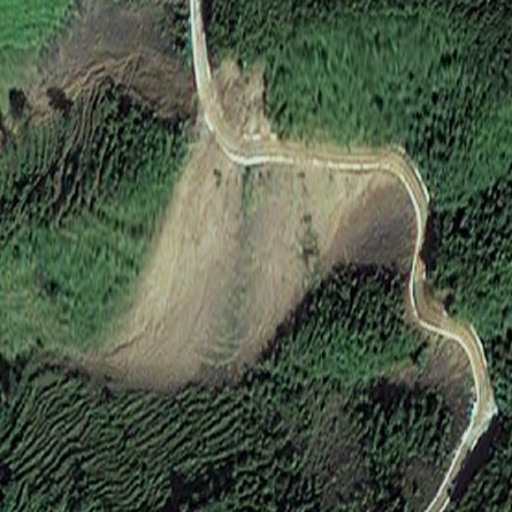landslide: (123, 65, 385, 391)
